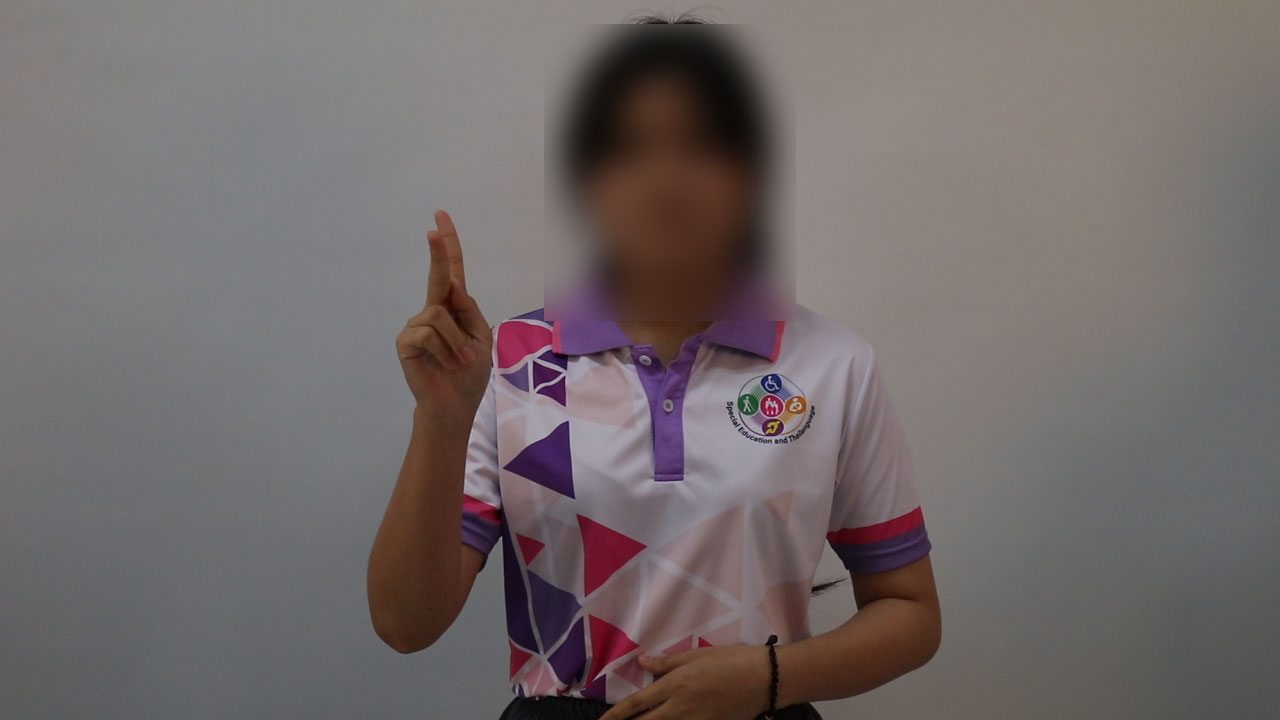ko: (385, 195, 500, 413)
